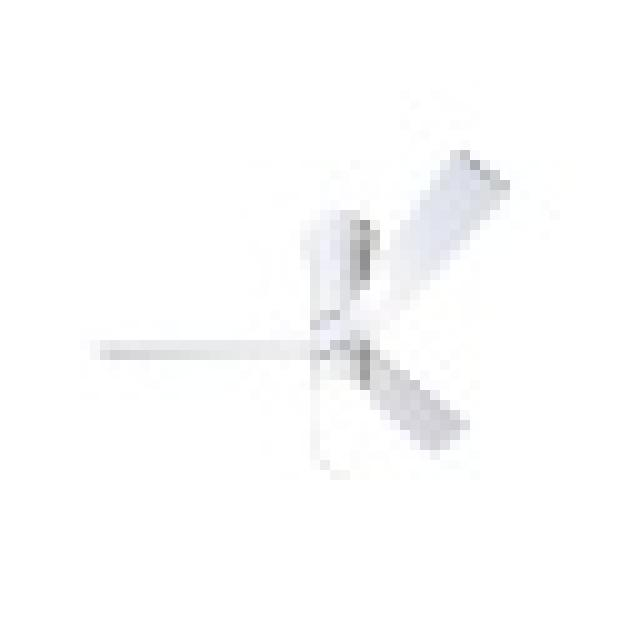Bulb: (88, 179, 549, 449)
